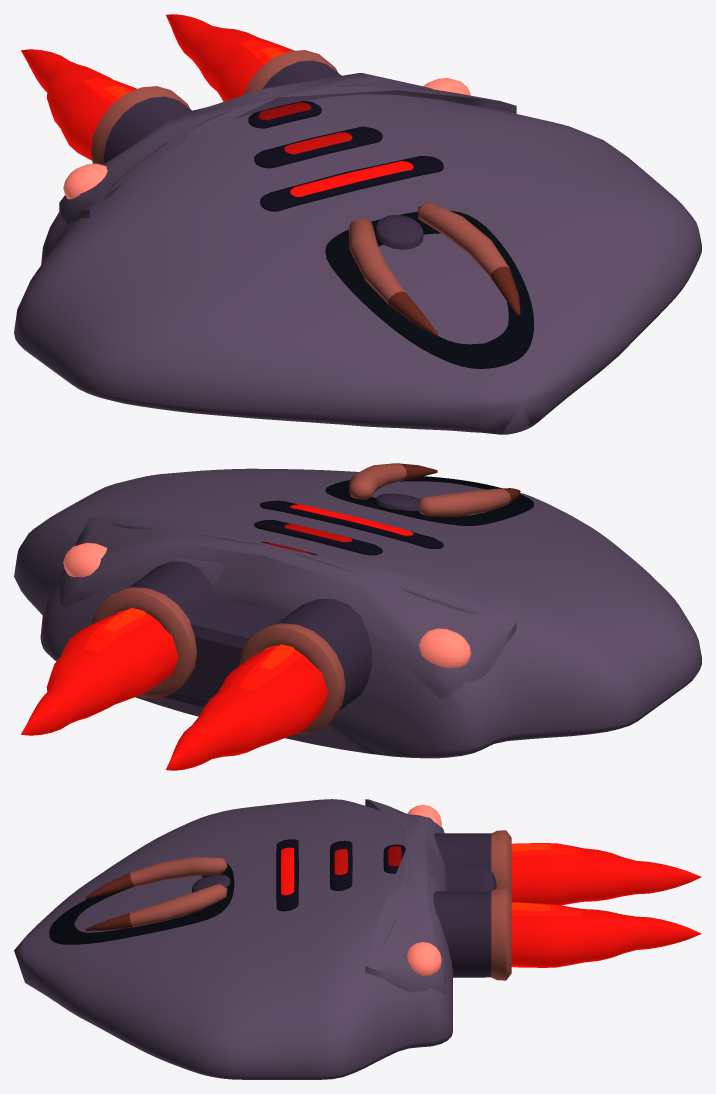
Rendered from purple_fighter_47.glb.
3 renders of one model, top to bottom at view 1: azimuth 30°, elevation 25°; view 2: azimuth 150°, elevation 25°; view 3: azimuth 270°, elevation 25°, orthographic. The views are drawn at different scales.
Parts seen in each view (by area): view 1: body, plate, mouth, flame_tip0, flame_tip0_r, engine, mandible, mandible_r, slit2, engine_r, slit1, slit_core2 (+4 smaller); view 2: body, plate, flame_tip0, flame_tip0_r, engine, engine_r, bridge, mouth, mandible_r, mandible, stud, slit2 (+6 smaller); view 3: body, plate, flame_tip0_r, flame_tip0, engine_r, mouth, engine, mandible, mandible_r, bridge, slit2, stud_r (+4 smaller).
Boxes of the visible parts, left/top/right/bottom form: body: left=14, top=94, right=701, bottom=434; plate: left=59, top=73, right=516, bottom=223; mouth: left=325, top=210, right=533, bottom=368; flame_tip0: left=21, top=49, right=137, bottom=160; flame_tip0_r: left=166, top=14, right=294, bottom=101; engine: left=91, top=86, right=193, bottom=164; mandible: left=418, top=202, right=520, bottom=315; mandible_r: left=349, top=219, right=437, bottom=335; slit2: left=260, top=156, right=443, bottom=211; engine_r: left=243, top=50, right=341, bottom=95; slit1: left=254, top=126, right=382, bottom=168; slit_core2: left=290, top=161, right=413, bottom=196; body: left=14, top=468, right=701, bottom=758; plate: left=59, top=515, right=516, bottom=698; flame_tip0: left=166, top=646, right=328, bottom=770; flame_tip0_r: left=21, top=610, right=178, bottom=735; engine: left=239, top=599, right=371, bottom=734; engine_r: left=92, top=561, right=217, bottom=698; bridge: left=163, top=597, right=287, bottom=707; mouth: left=325, top=476, right=533, bottom=525; mandible_r: left=418, top=488, right=520, bottom=516; mandible: left=349, top=463, right=437, bottom=499; stud: left=419, top=628, right=471, bottom=668; slit2: left=260, top=500, right=443, bottom=548; body: left=14, top=799, right=452, bottom=1079; plate: left=365, top=799, right=446, bottom=994; flame_tip0_r: left=511, top=904, right=701, bottom=967; flame_tip0: left=511, top=843, right=701, bottom=905; engine_r: left=433, top=888, right=511, bottom=980; mouth: left=49, top=863, right=234, bottom=944; engine: left=434, top=830, right=511, bottom=894; mandible: left=85, top=884, right=227, bottom=931; mandible_r: left=85, top=857, right=227, bottom=898; bridge: left=445, top=868, right=496, bottom=977; slit2: left=276, top=839, right=298, bottom=911; stud_r: left=407, top=942, right=441, bottom=975.
Bounding box in the file's own units: 21.4 × 5.32 × 25.65.
